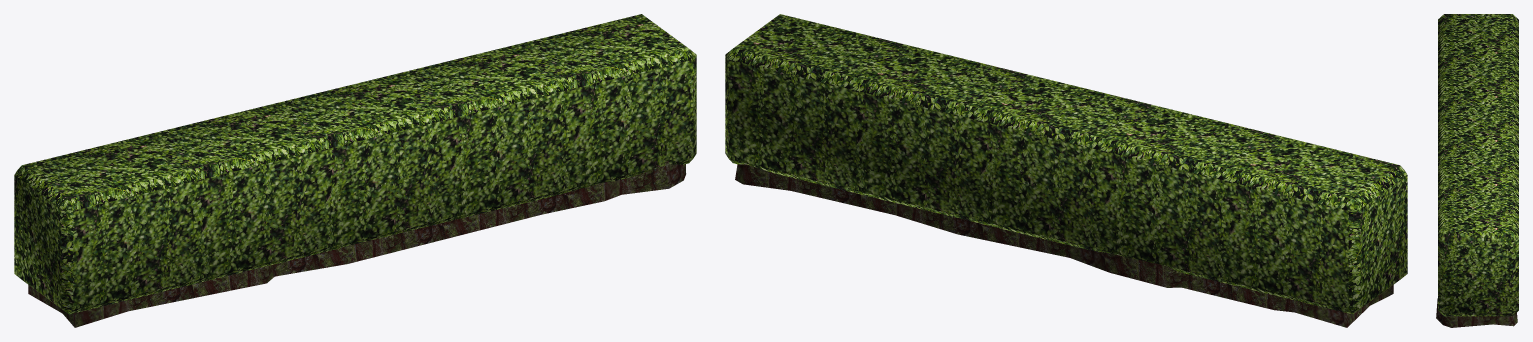
Rendered from Hedge.FBX.
The picture shows the model from 3 angles, left to right: view 1: azimuth 30°, elevation 25°; view 2: azimuth 150°, elevation 25°; view 3: azimuth 270°, elevation 25°; orthographic projection. The views are drawn at different scales.
Visible parts, largest first — view 1: Hedge; view 2: Hedge; view 3: Hedge.
Boxes of the visible parts, x1=… form: Hedge: x1=14, y1=14, x2=696, y2=327; Hedge: x1=725, y1=14, x2=1407, y2=327; Hedge: x1=1436, y1=14, x2=1518, y2=327.
Size of the model in its own units: 715 by 111 by 140.
